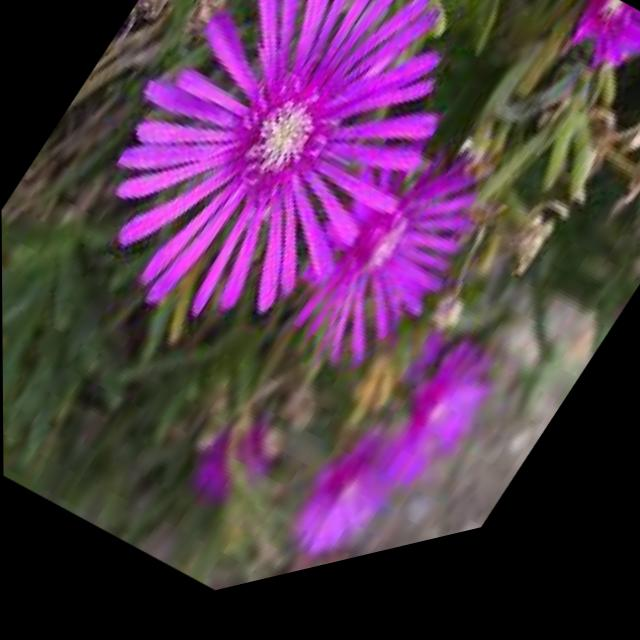Flower: (281, 147, 498, 419)
